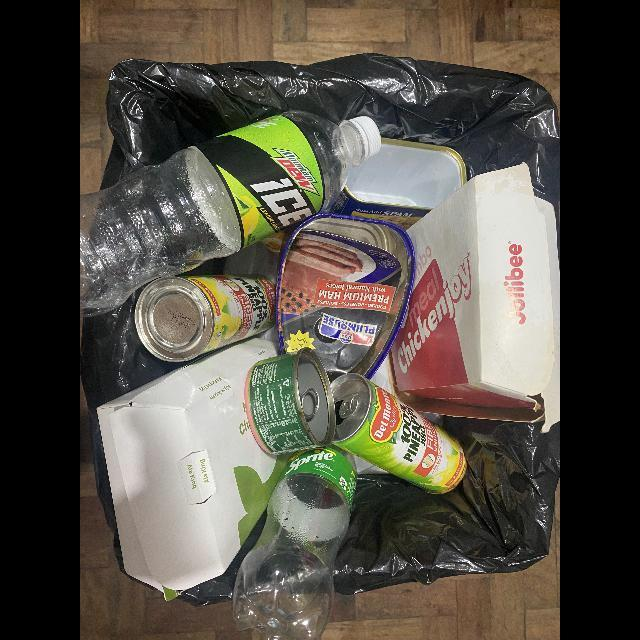aluminum: (276, 214, 416, 380), (330, 373, 467, 494), (331, 137, 467, 229), (134, 274, 276, 362), (244, 347, 336, 455)
cardboard: (96, 338, 288, 602), (390, 163, 560, 433)
plastic_bottle: (80, 111, 382, 318), (232, 446, 357, 640)
